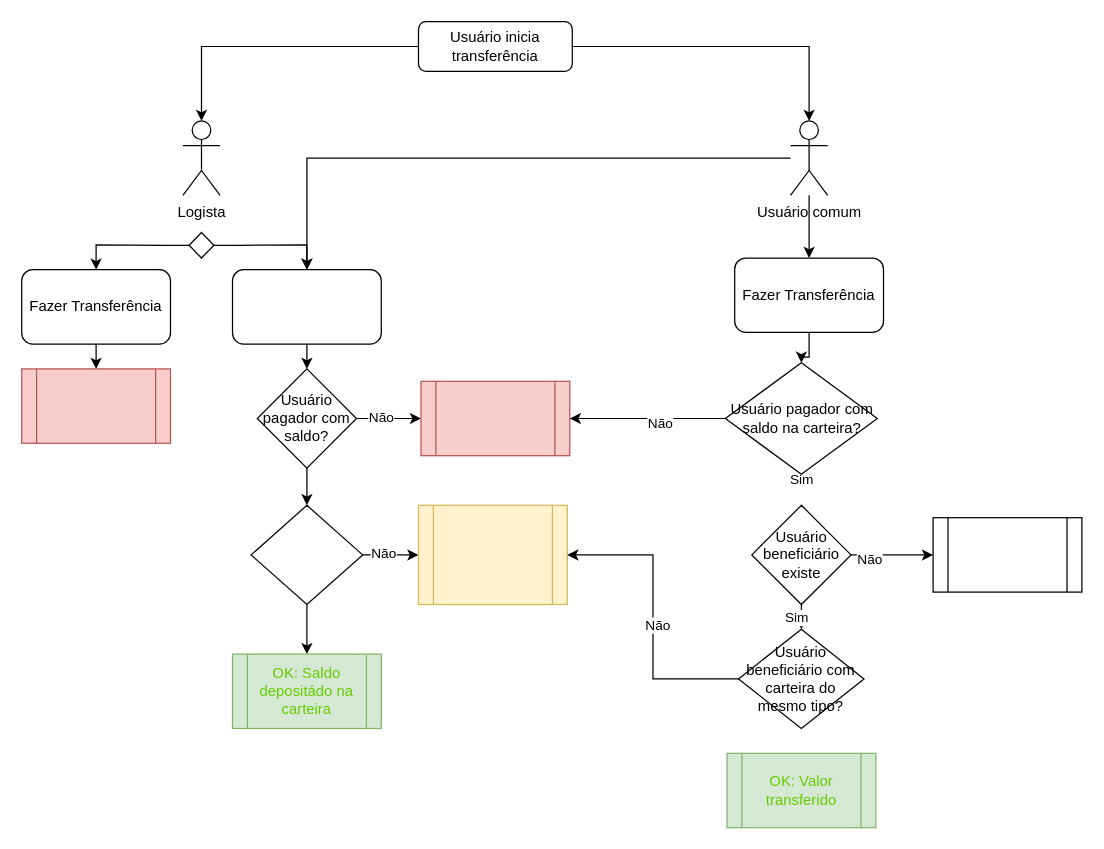
This 1104x849 diagram has some shape labels left out. Each missing label, with the centre of its shape:
"Criar Carteira: Recebedor deve ter carteira criada" goes at point (492, 554).
"ERRO: Logistas não fazem transferência" goes at point (95, 405).
"ERRO: Usuário beneficente inexistente" goes at point (1007, 554).
"ERRO: Usuário pagador sem Saldo" goes at point (495, 418).
"Receber Transferência" goes at point (306, 306).
"Usuário possui carteira do mesmo tipo" goes at point (306, 554).
